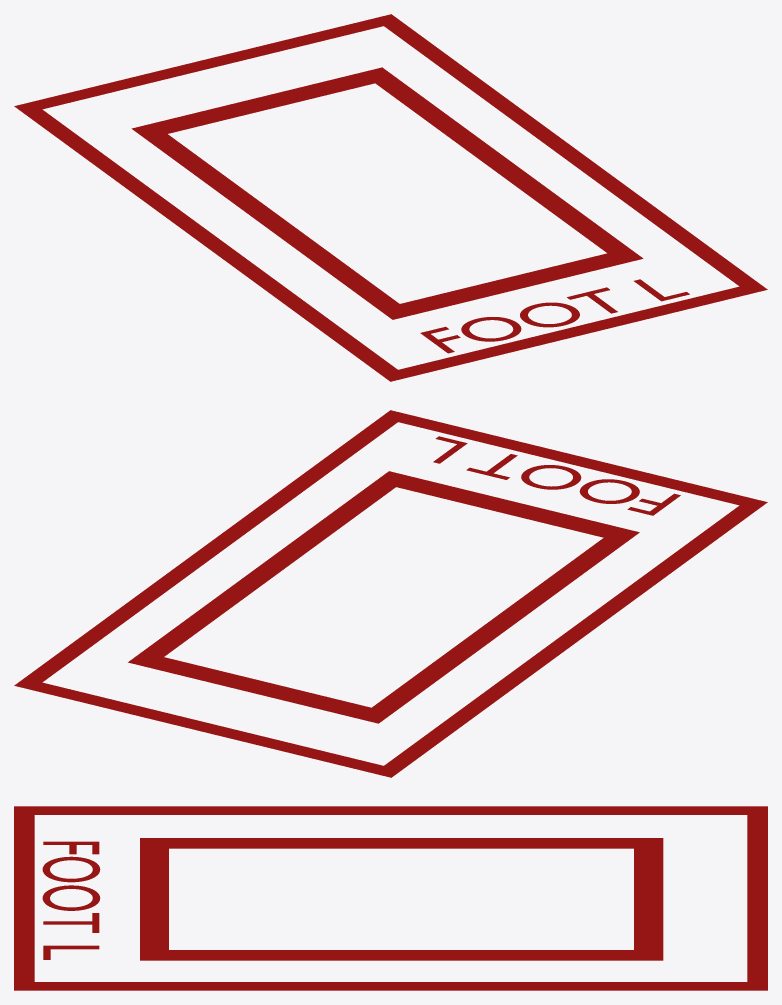
The model's file is Prefab_Mesh_FootL.fbx.
The picture shows the model from 3 angles, top to bottom: view 1: azimuth 30°, elevation 25°; view 2: azimuth 150°, elevation 25°; view 3: azimuth 270°, elevation 25°; orthographic projection.
Visible parts, largest first — view 1: Foot L; view 2: Foot L; view 3: Foot L.
Part boxes in pixels (bbox=[...]): Foot L: bbox=[14, 14, 767, 381]; Foot L: bbox=[14, 410, 767, 777]; Foot L: bbox=[14, 806, 767, 990].
Size of the model in its own units: 22.79 by 4.01e-06 by 39.38.
